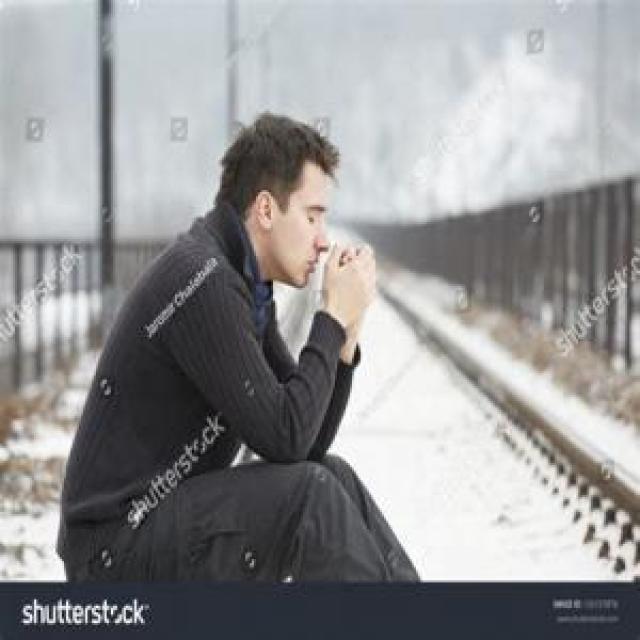danger: (58, 112, 422, 581), (58, 109, 59, 111)
rail: (336, 252, 640, 580)
